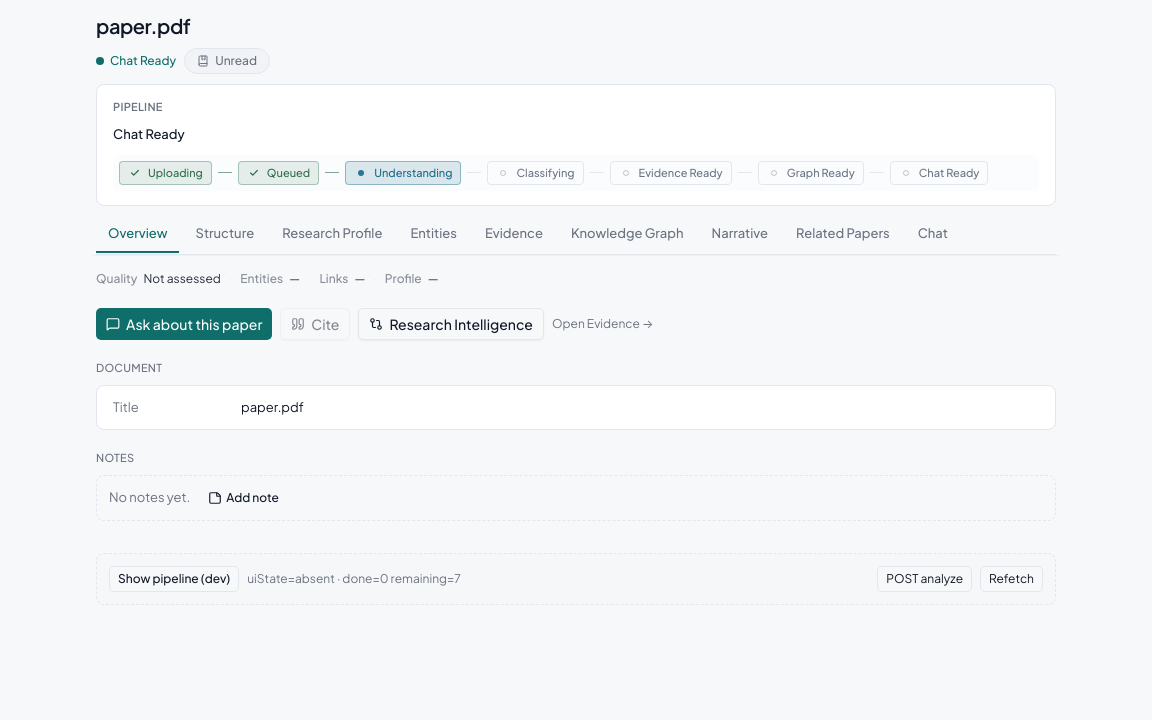
Test case: Paper Workspace shell (M4) › shows Research Profile tab empty state when phase is missing
Expected: the heading "paper.pdf" is shown, [96,13,190,38]
Click the tab "Research Profile". click: x=332, y=234
box: [270,216,394,253]
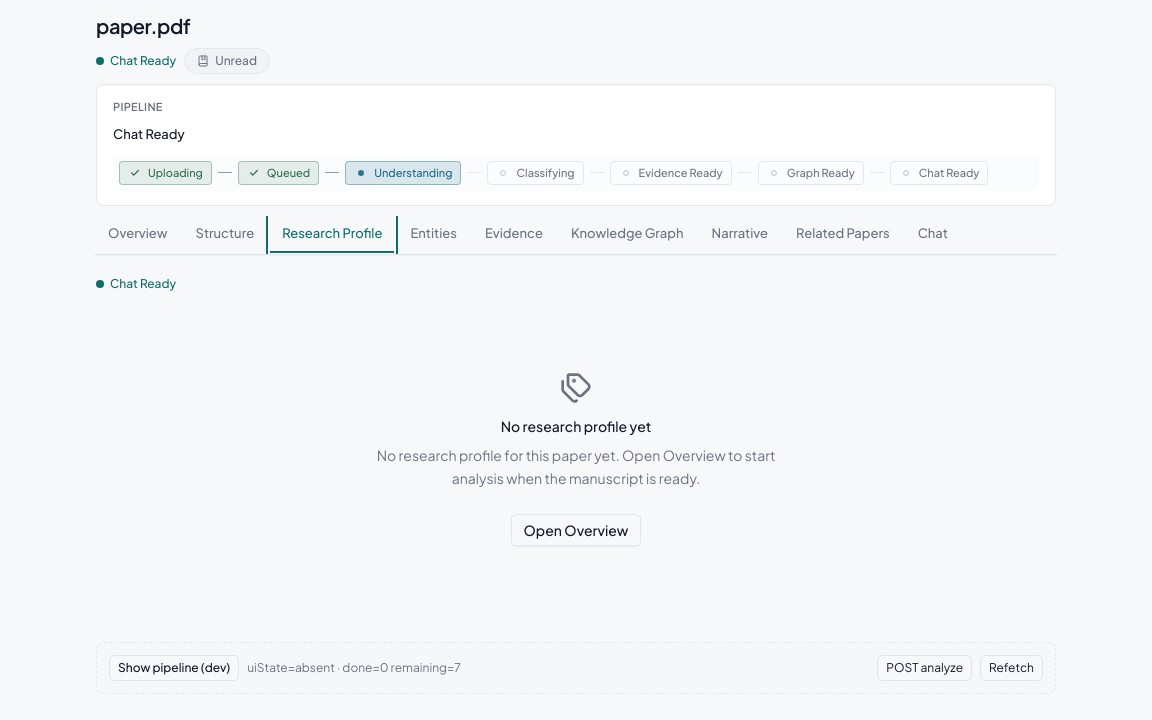
Now the text "No research profile yet" is shown, box [501,416,651,436]
